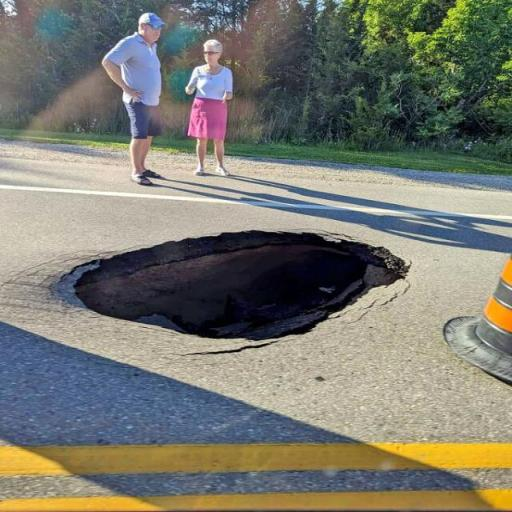Concentric_Crack: (69, 231, 409, 340)
